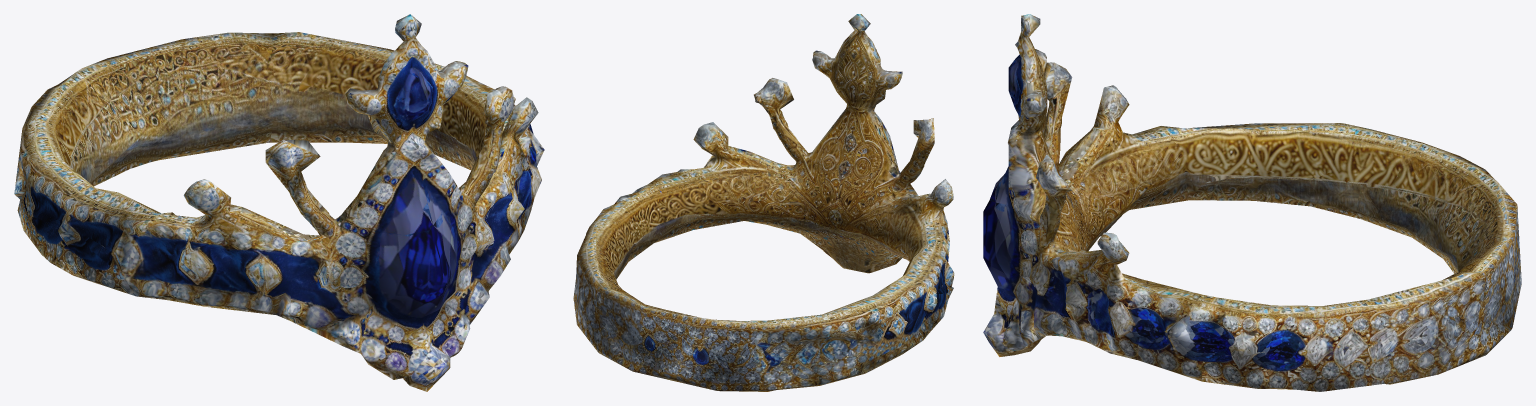
File: Royal_Kings_crown_ornate_jewels_and_gold__0616144500_refine.obj
3 views of the same model, side by side, from view 1: azimuth 30°, elevation 25°; view 2: azimuth 150°, elevation 25°; view 3: azimuth 270°, elevation 25° (orthographic). The views are drawn at different scales.
Parts seen in each view (by area): view 1: Mesh_0; view 2: Mesh_0; view 3: Mesh_0.
Boxes of the visible parts, left/top/right/bottom form: Mesh_0: left=14, top=14, right=544, bottom=391; Mesh_0: left=573, top=14, right=954, bottom=391; Mesh_0: left=983, top=14, right=1521, bottom=391.
Size of the model in its own units: 1.1 by 0.8376 by 1.19.
Materials: 1 (1 with a texture image).
